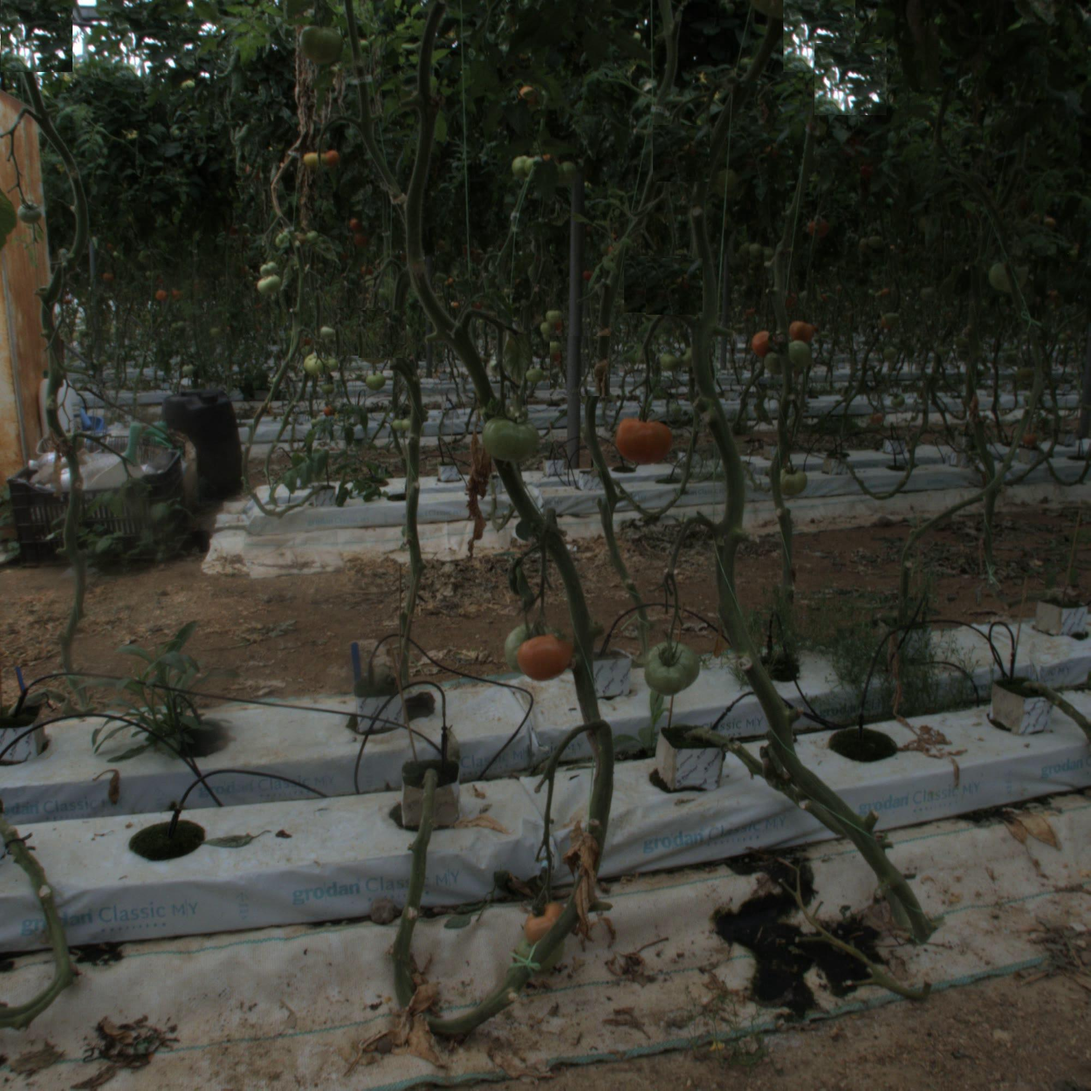['unripe', 'semi-ripe', 'fully-ripe']: (484, 407, 541, 464), (642, 636, 698, 692), (302, 24, 341, 63)
